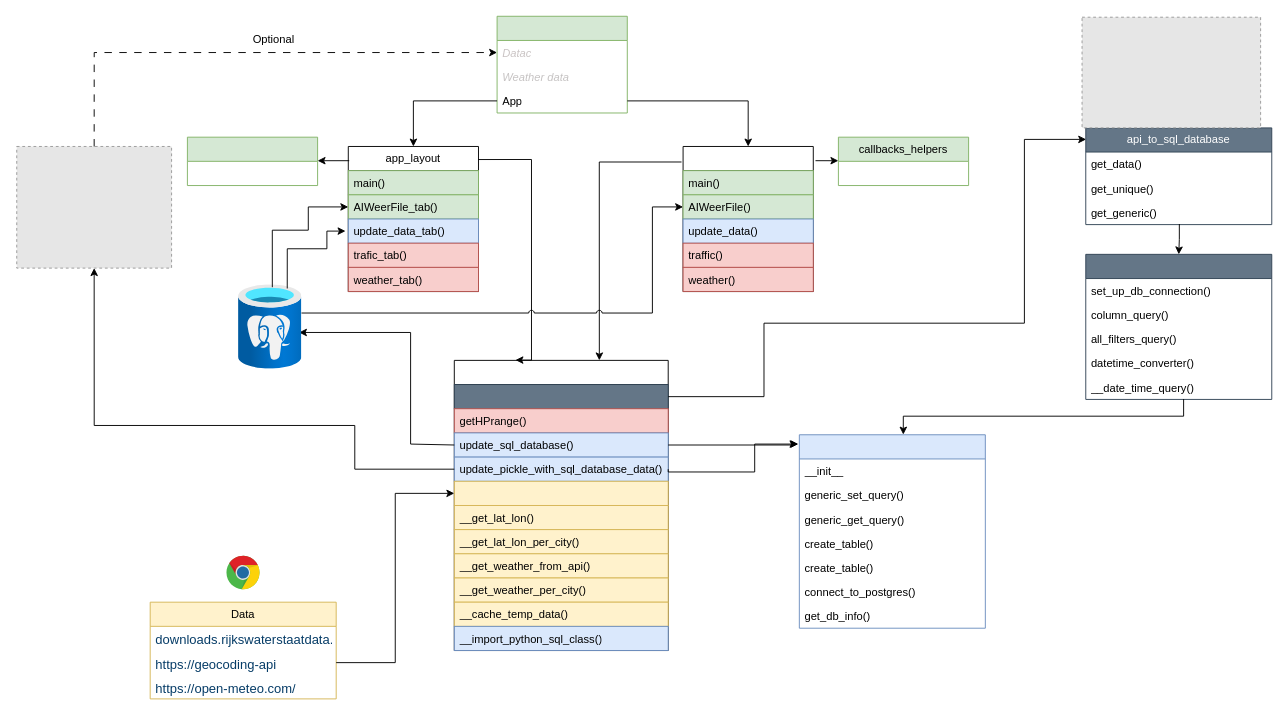
Image size: 1288x718. Some labels were removed from this diagram. Grey dashed boxes stand in for pictures. Each missing label, with the box of its shape:
AIWeerFile_functions: (453, 359, 668, 651)
AIWeerFileDashboard: (496, 15, 627, 113)
api_utils: (1085, 253, 1272, 399)
app_layout_helpers: (186, 136, 318, 186)
Call_AIWeerFileAPI(): (453, 384, 668, 409)
callbacks: (682, 146, 813, 292)
Collect_and_clean_AIweerfiledata(): (453, 480, 668, 505)
python_postgress_class: (798, 434, 985, 628)
